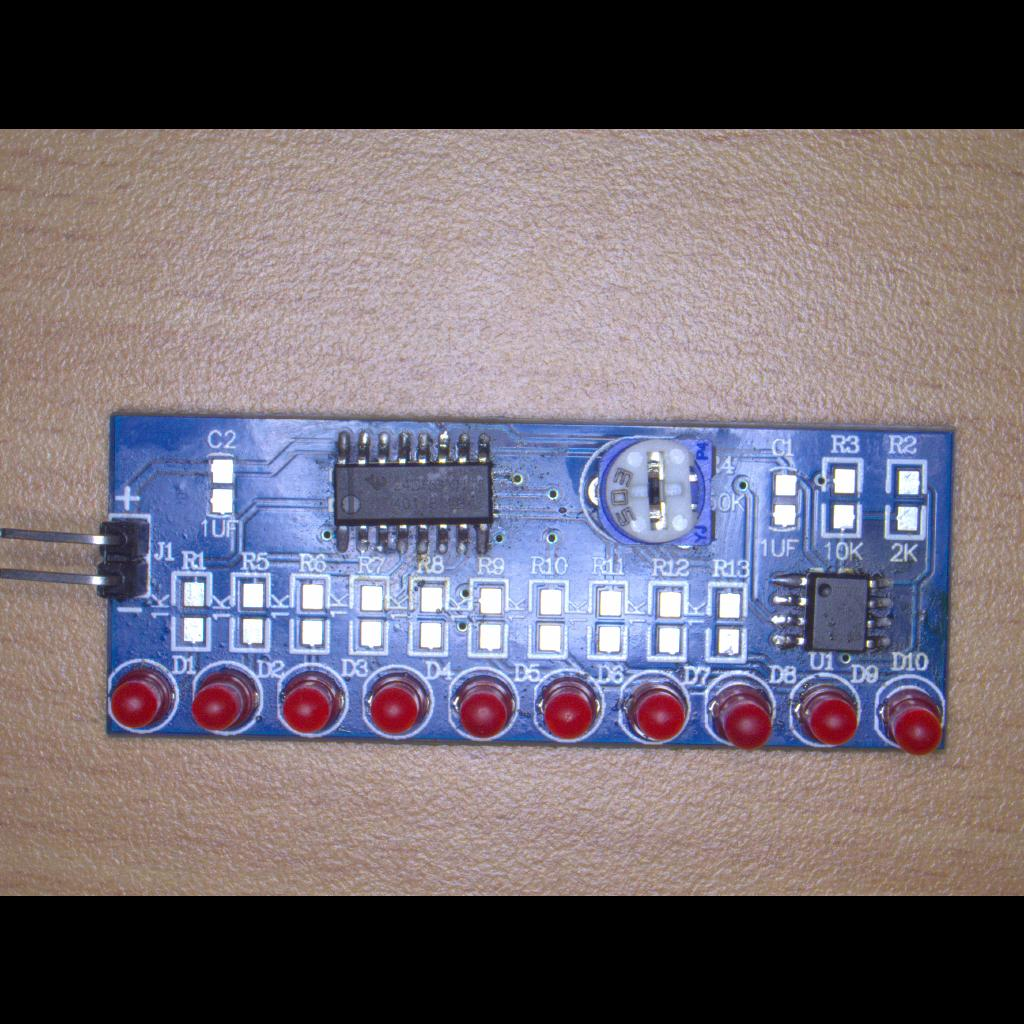NG: (881, 456, 931, 542), (820, 453, 866, 541), (228, 568, 274, 656), (465, 574, 513, 658), (405, 572, 451, 658), (167, 570, 213, 654), (585, 578, 631, 662), (704, 578, 748, 664), (287, 572, 331, 656), (526, 576, 570, 660), (648, 579, 690, 665), (762, 460, 804, 540), (349, 572, 389, 656), (200, 447, 244, 519)
OK: (322, 426, 498, 560), (764, 570, 898, 658)
